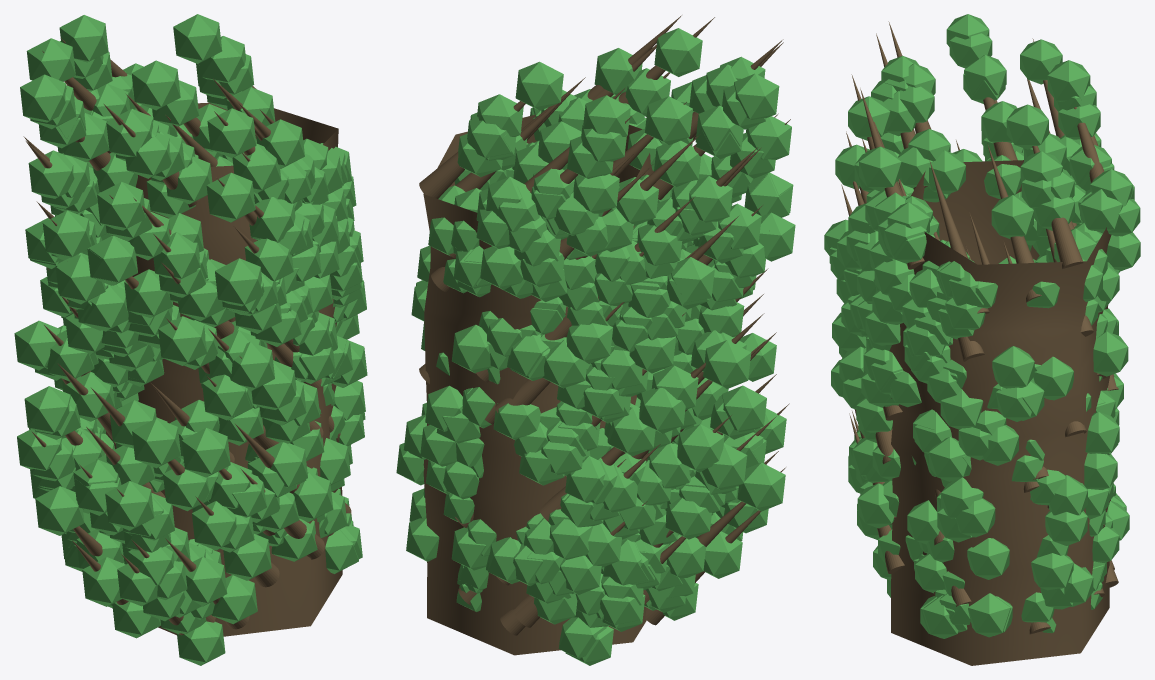
File: tree_var_7331.glb
3 renders of one model, left to right at view 1: azimuth 30°, elevation 25°; view 2: azimuth 150°, elevation 25°; view 3: azimuth 270°, elevation 25°, orthographic. The views are drawn at different scales.
Visible parts, largest first — view 1: tree_var_7331; view 2: tree_var_7331; view 3: tree_var_7331.
Part boxes in pixels (x1=…): tree_var_7331: x1=14, y1=14, x2=367, y2=665; tree_var_7331: x1=396, y1=15, x2=795, y2=665; tree_var_7331: x1=824, y1=14, x2=1140, y2=665.
Bounding box in the file's own units: 3.16 × 5.26 × 2.79.
